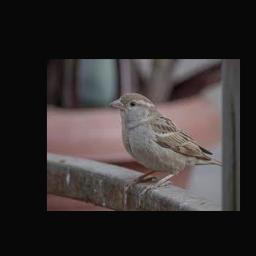Sparrow: (108, 92, 223, 194)
